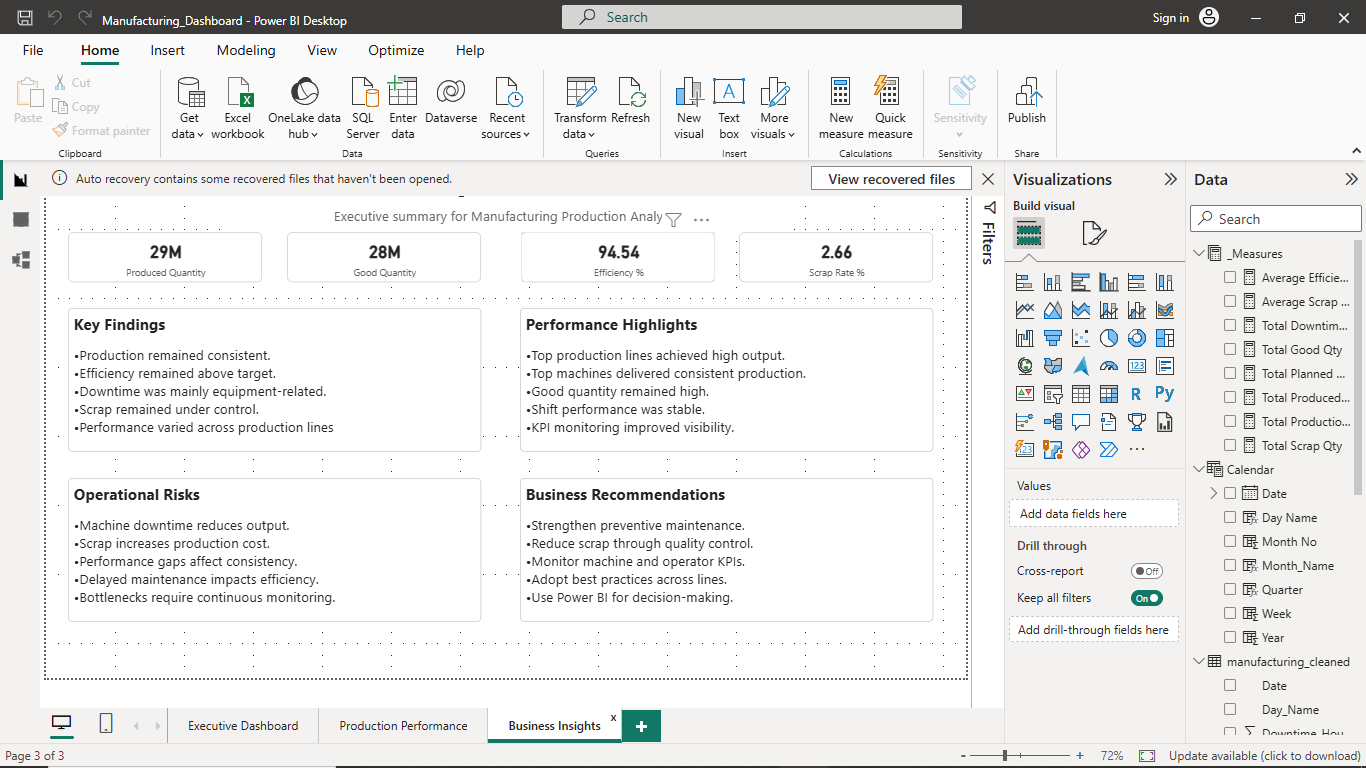

Layout of this report page (visuals, bound fields, positions):
{"tool":"powerbi","page":{"name":"Business Insights","canvas":[1280,720],"ordinal":2},"visuals":[{"type":"textbox","box":[419.3,20,441.4,40],"z":0},{"type":"textbox","box":[249.3,60,781.4,40],"z":1000},{"type":"card","fields":{"Values":["_Measures.Total Produced Qty"]},"box":[30,100,270,70],"z":2000},{"type":"card","fields":{"Values":["_Measures.Total Good Qty"]},"box":[335.2,100,270,70],"z":3000},{"type":"card","fields":{"Values":["_Measures.Average Efficiency %"]},"box":[660.5,100,270,70],"z":4000},{"type":"card","fields":{"Values":["_Measures.Average Scrap Rate %"]},"box":[964.3,100,270,70],"z":5000},{"type":"textbox","box":[30,205.7,575,200],"z":6000},{"type":"textbox","box":[660,205.7,575,200],"z":7000},{"type":"textbox","box":[30,442.9,575,200],"z":8000},{"type":"textbox","box":[660,442.9,575,200],"z":9000}]}

Visuals, with their boxes on the page's 1280x720 design canvas (x1, y1, x2, y2). These are canvas units, not pixel positions in the 1366x768 screenshot, which may show the page scaled, cropped or inside an application window:
textbox: (x1=419, y1=20, x2=861, y2=60)
textbox: (x1=249, y1=60, x2=1031, y2=100)
card - _Measures.Total Produced Qty: (x1=30, y1=100, x2=300, y2=170)
card - _Measures.Total Good Qty: (x1=335, y1=100, x2=605, y2=170)
card - _Measures.Average Efficiency %: (x1=660, y1=100, x2=930, y2=170)
card - _Measures.Average Scrap Rate %: (x1=964, y1=100, x2=1234, y2=170)
textbox: (x1=30, y1=206, x2=605, y2=406)
textbox: (x1=660, y1=206, x2=1235, y2=406)
textbox: (x1=30, y1=443, x2=605, y2=643)
textbox: (x1=660, y1=443, x2=1235, y2=643)
